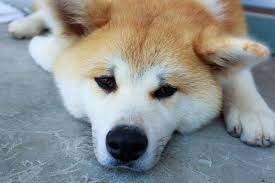dog: (54, 2, 238, 173)
